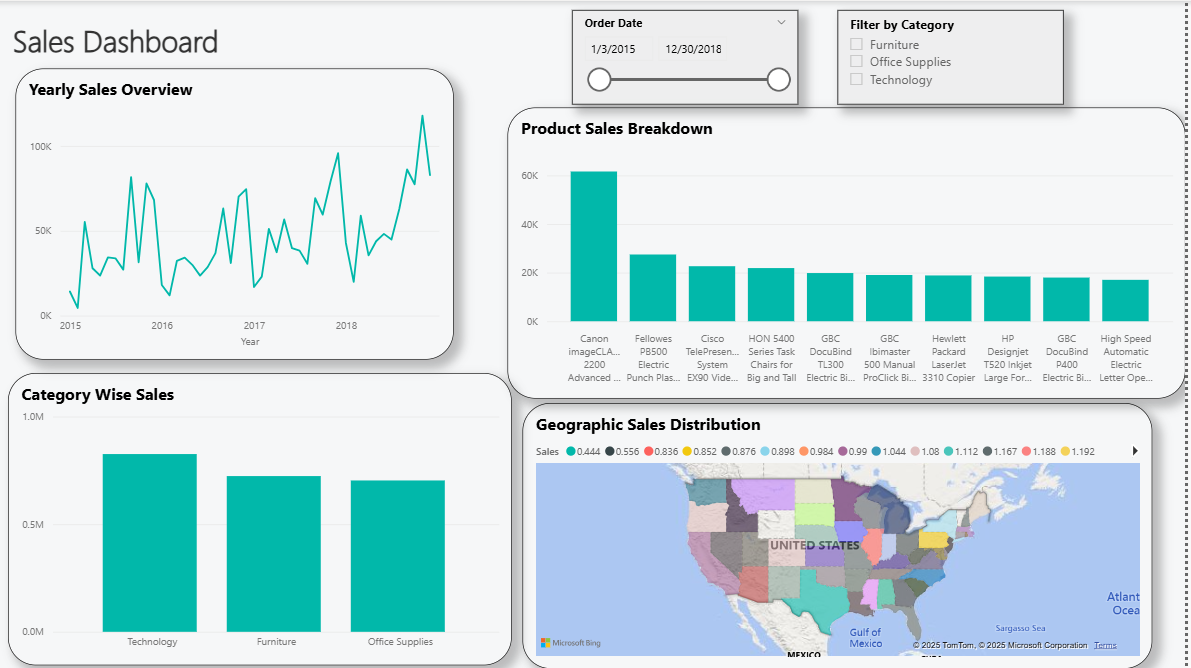

What the dashboard file says about the page in this screenshot:
{"tool":"powerbi","page":{"name":"Page 1","canvas":[1280,720],"ordinal":0},"visuals":[{"type":"lineChart","title":"Yearly Sales Overview","fields":{"Y":["Sum(cleaned_superstore.Sales)"],"Category":["cleaned_superstore.Order_Month_Year.Variation.Date Hierarchy.Year","cleaned_superstore.Order_Month_Year.Variation.Date Hierarchy.Quarter","cleaned_superstore.Order_Month_Year.Variation.Date Hierarchy.Month","cleaned_superstore.Order_Month_Year.Variation.Date Hierarchy.Day"]},"box":[17.8,72.8,472.4,313.9],"z":0},{"type":"columnChart","title":"Category Wise Sales","fields":{"Y":["Sum(cleaned_superstore.Sales)"],"Category":["cleaned_superstore.Category"]},"box":[9.7,401.3,543.6,315.5],"z":1},{"type":"columnChart","title":"Product Sales Breakdown","fields":{"Category":["cleaned_superstore.Product Name"],"Y":["Sum(cleaned_superstore.Sales)"]},"box":[548.5,114.9,731.3,313.9],"z":2},{"type":"filledMap","title":"Geographic Sales Distribution","fields":{"Category":["cleaned_superstore.State"],"Series":["cleaned_superstore.Sales"]},"box":[564.7,433.6,679.6,286.4],"z":3},{"type":"slicer","fields":{"Values":["cleaned_superstore.Order Date"]},"box":[618.1,9.7,244.3,101.9],"z":4},{"type":"slicer","fields":{"Values":["cleaned_superstore.Category"]},"box":[904.4,9.7,244.3,101.9],"z":5},{"type":"textbox","box":[9.7,14.6,487,71.2],"z":6}]}

Visuals, with their boxes in screenshot pixels (x1, y1, x2, y2), scaled from the page's 1280x720 canvas onto the 1191x668 screenshot:
"Yearly Sales Overview" lineChart: [left=17, top=68, right=456, bottom=359]
"Category Wise Sales" columnChart: [left=9, top=372, right=515, bottom=665]
"Product Sales Breakdown" columnChart: [left=510, top=107, right=1190, bottom=398]
"Geographic Sales Distribution" filledMap: [left=525, top=402, right=1158, bottom=667]
slicer - cleaned_superstore.Order Date: [left=575, top=9, right=802, bottom=104]
slicer - cleaned_superstore.Category: [left=842, top=9, right=1069, bottom=104]
textbox: [left=9, top=14, right=462, bottom=80]
